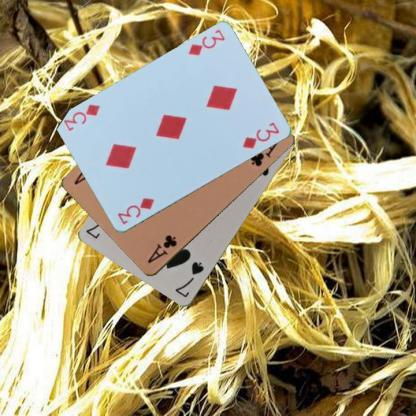3d: (115, 195, 156, 226), (186, 27, 226, 57)
7s: (172, 260, 205, 300)
Ac: (144, 232, 178, 265)
